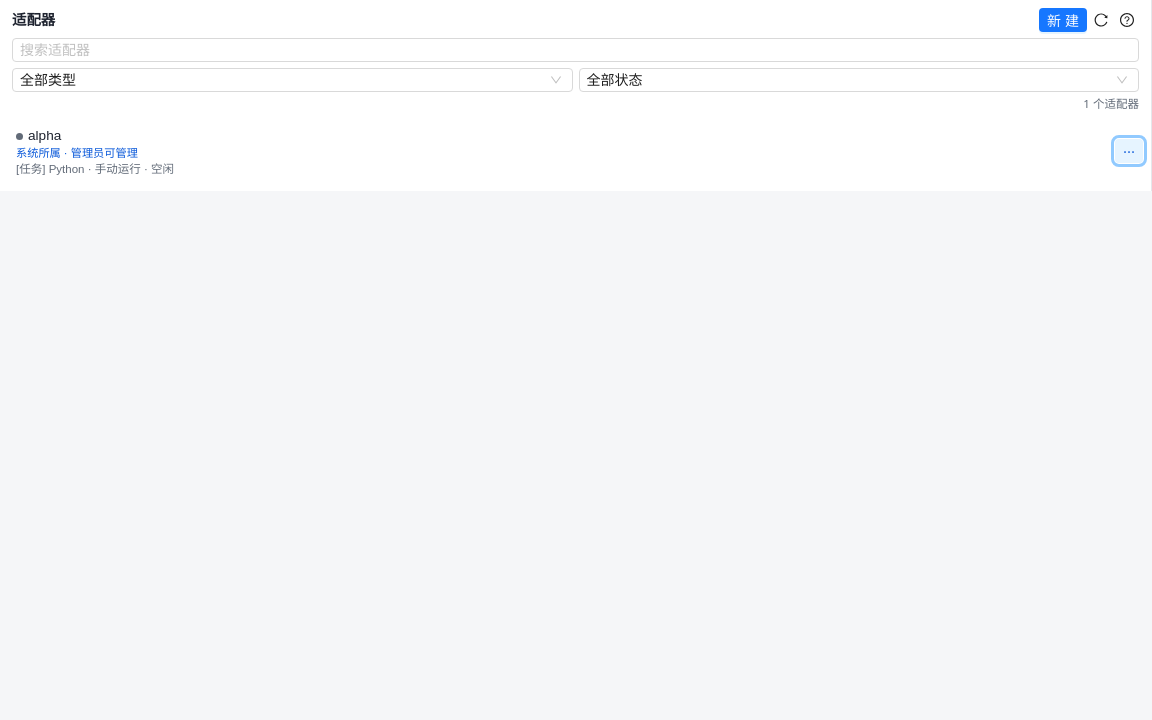
it: keeps the three-dot menu keyboard reachable and closable on outside click
Click the button with test id "adapter-item-menu". click: [1129, 151]
box: [1115,139,1143,163]
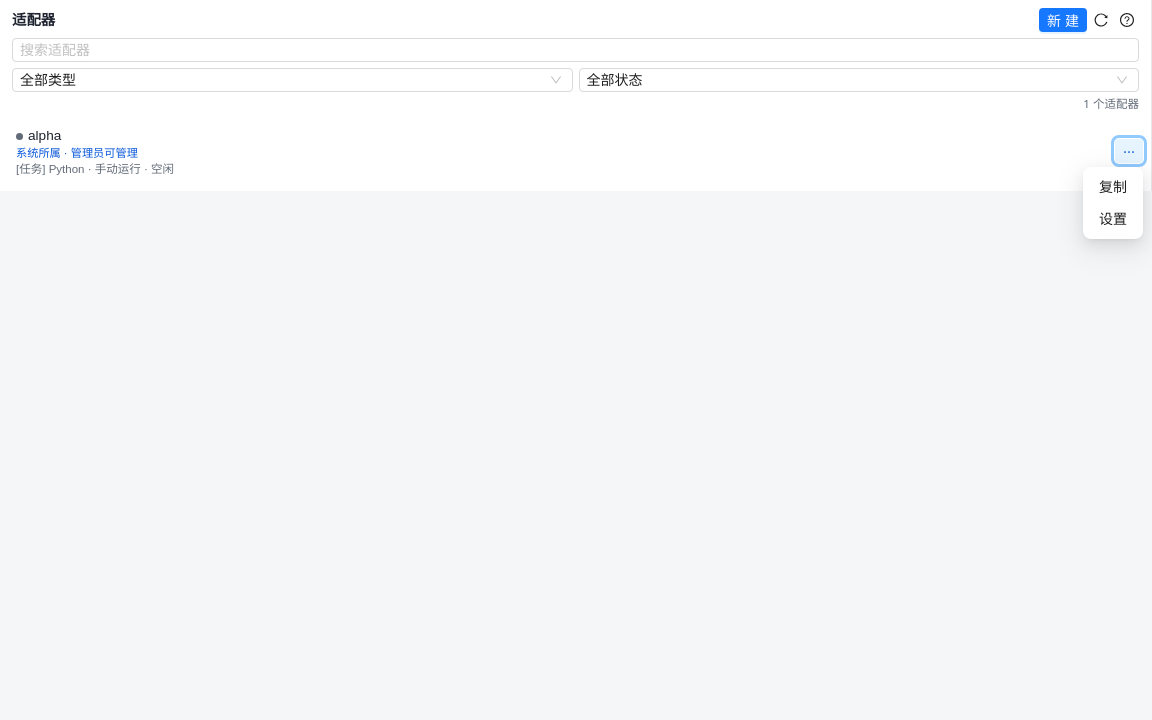
Check: the number of menu items is 2, box [1099,178,1127,195]; [1099,210,1127,227]
# 再次点击触发按钮关闭。
Click the button with test id "adapter-item-menu". click: [1129, 151]
box: [1115,139,1143,163]
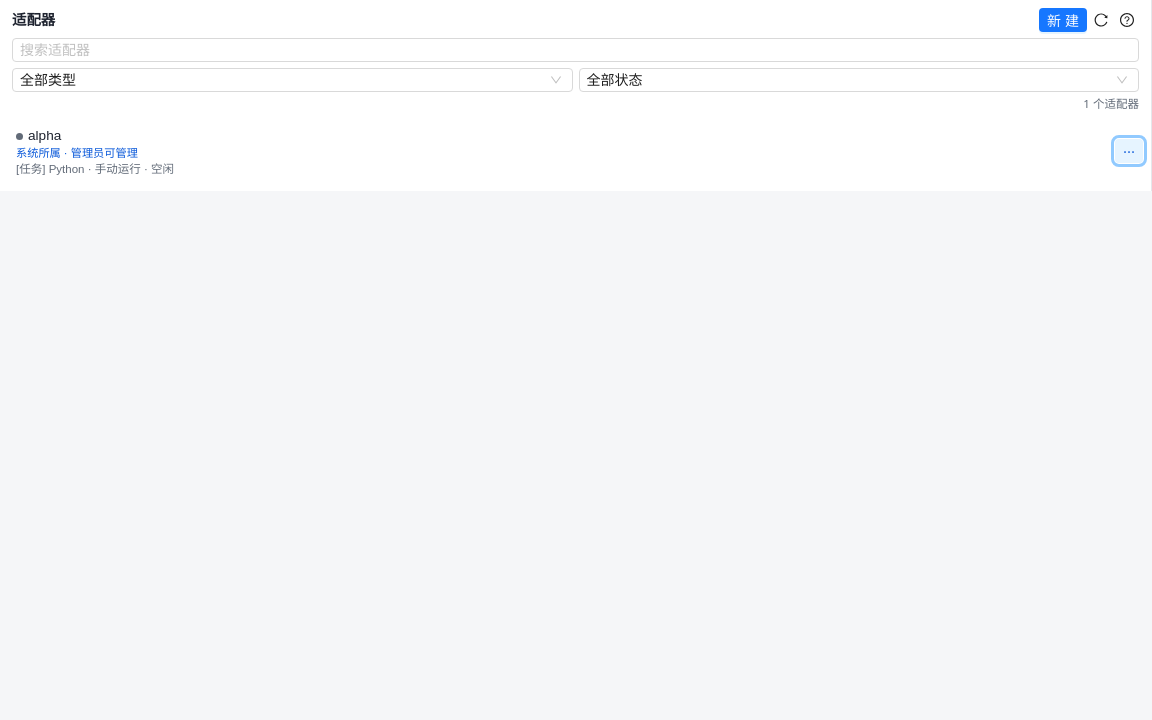
Check: the menu is gone
# 点击空白处关闭。
Click the button with test id "adapter-item-menu". click: [1129, 151]
box: [1115,139,1143,163]
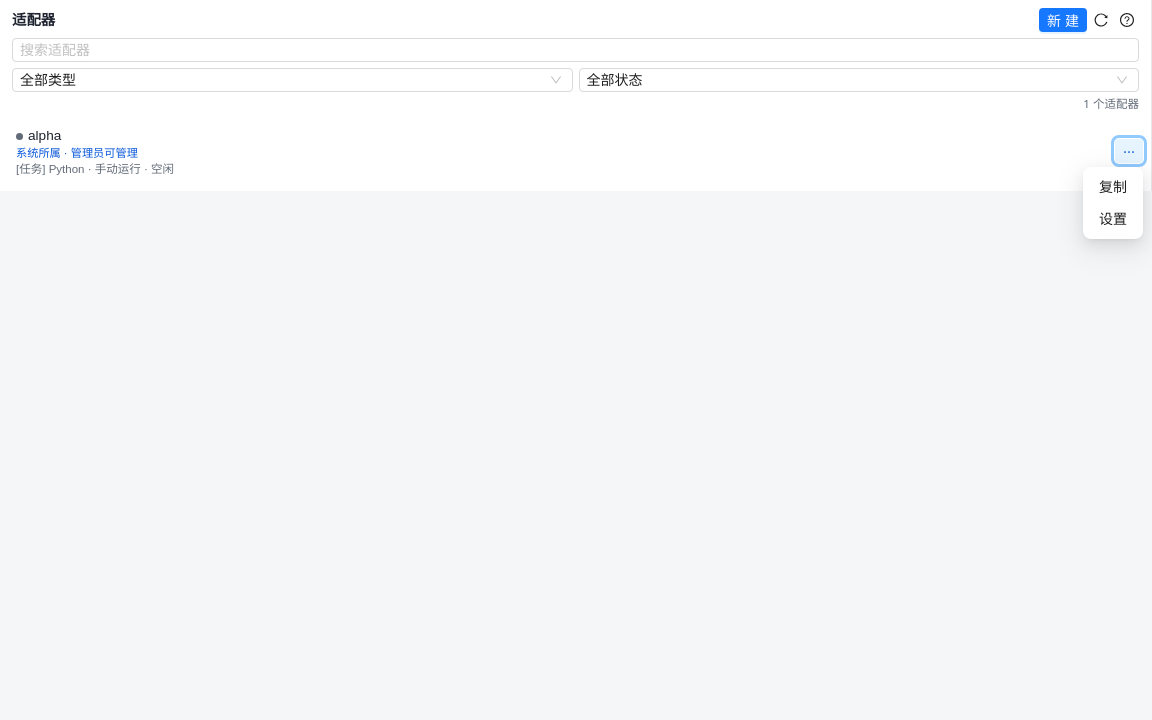
Check: the menu is shown, box [1083,167,1143,239]
Press the mouse on the element that starts with "适配器" at [576, 360], box [0,0,1151,719]
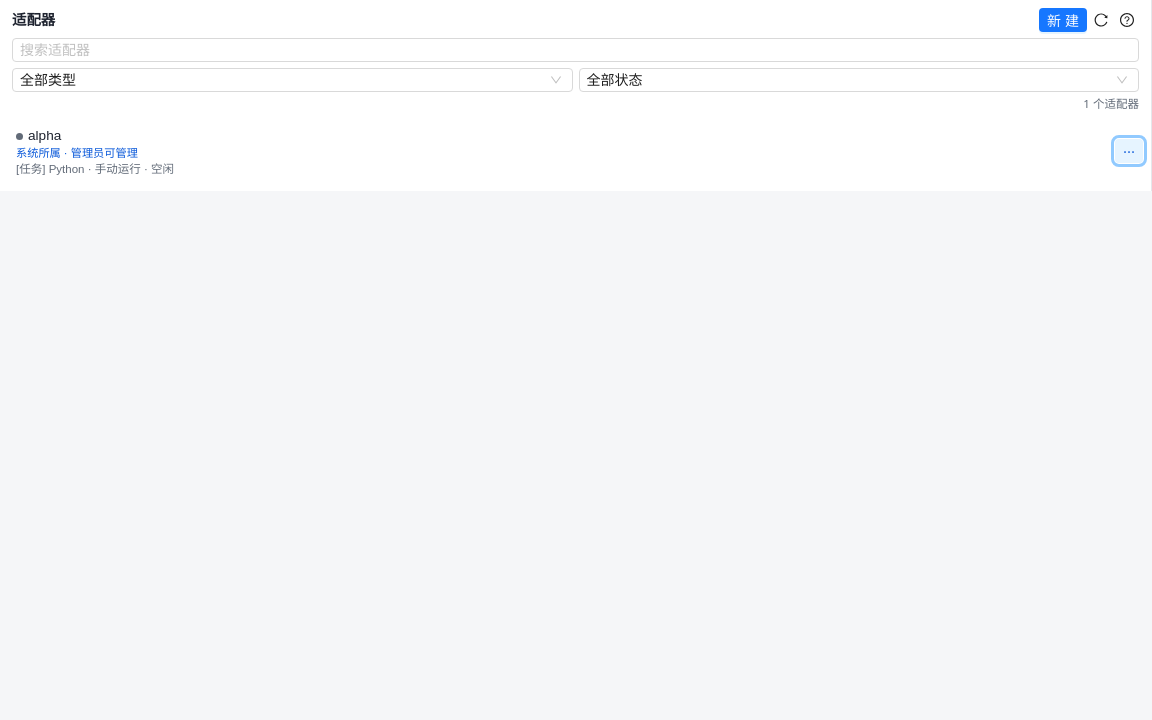
Check: the menu is gone
